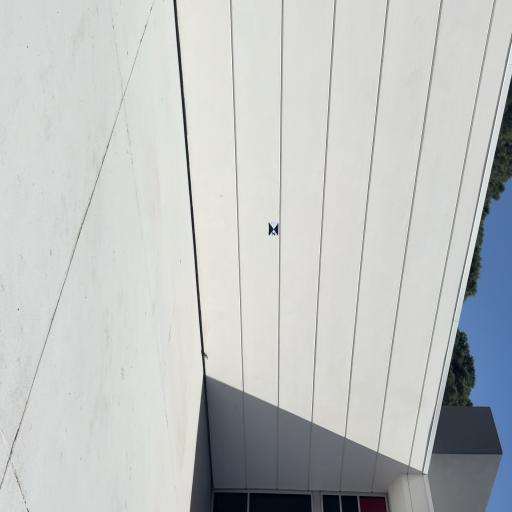target7: (269, 222, 279, 237)
